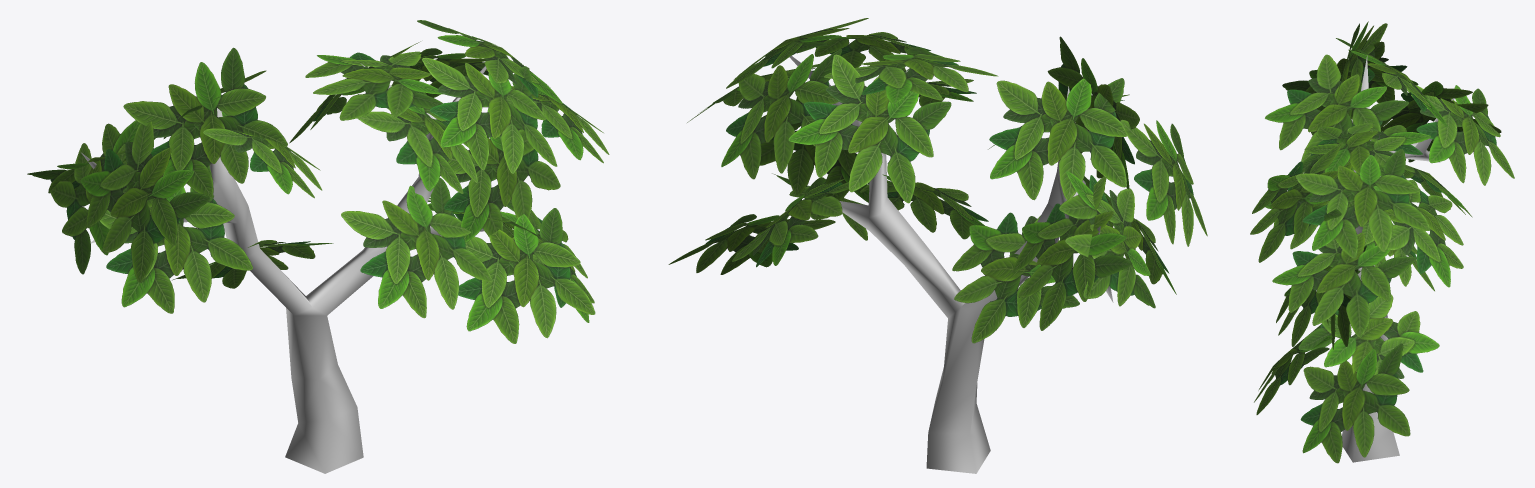
Rendered from P_Tree05_Sapling01.fbx.
3 renders of one model, left to right at view 1: azimuth 30°, elevation 25°; view 2: azimuth 150°, elevation 25°; view 3: azimuth 270°, elevation 25°, orthographic. The views are drawn at different scales.
Visible parts, largest first — view 1: P_Tree05_Sapling01; view 2: P_Tree05_Sapling01; view 3: P_Tree05_Sapling01.
Part boxes in pixels (<box>): P_Tree05_Sapling01: <box>27,20,609,473</box>; P_Tree05_Sapling01: <box>668,18,1207,473</box>; P_Tree05_Sapling01: <box>1250,21,1514,463</box>.
Size of the model in its own units: 272 by 217 by 141.
